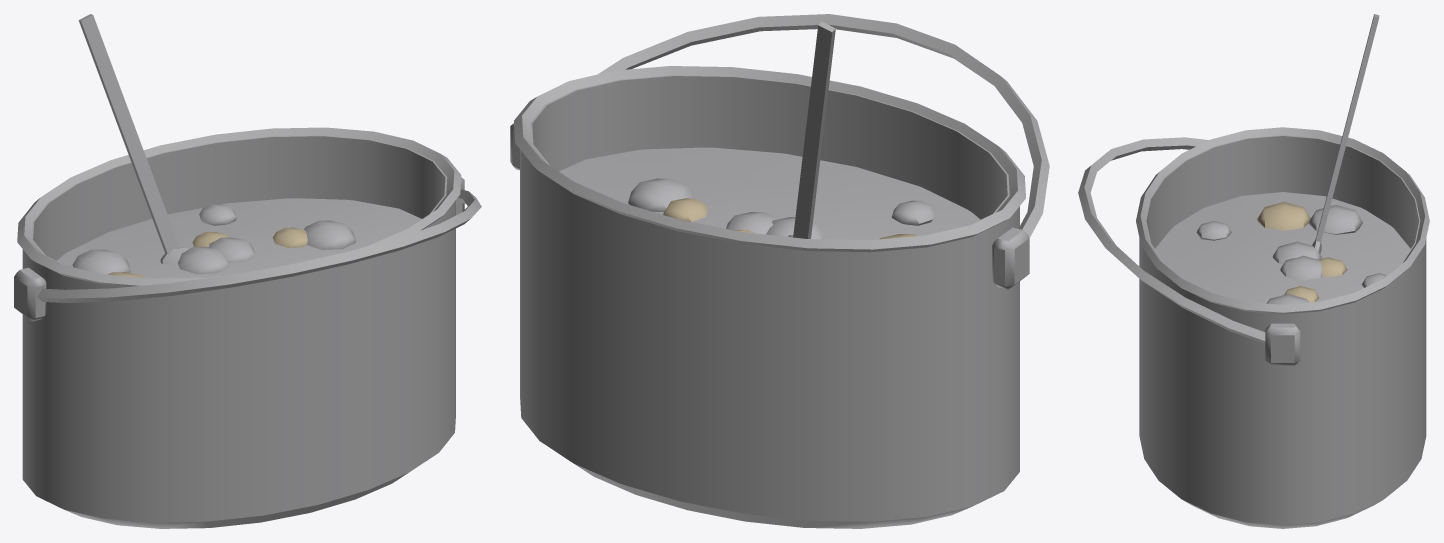
The model's file is cook_mush.glb.
The picture shows the model from 3 angles, left to right: view 1: azimuth 30°, elevation 25°; view 2: azimuth 150°, elevation 25°; view 3: azimuth 270°, elevation 25°; orthographic projection. The views are drawn at different scales.
Parts seen in each view (by area): view 1: body; view 2: body; view 3: body.
Part boxes in pixels (<box>): body: <box>14,14,481,528</box>; body: <box>510,14,1049,528</box>; body: <box>1078,14,1429,528</box>.
Size of the model in its own units: 0.0654 by 0.0617 by 0.0505.
